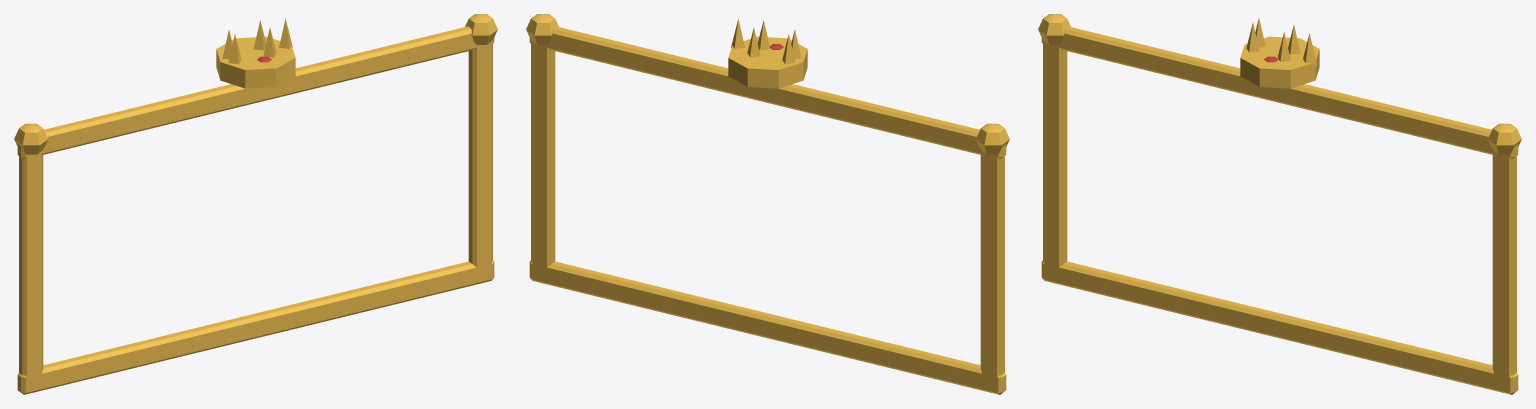
File: PR_Decor_TabelaCerceve.fbx
The picture shows the model from 3 angles, left to right: view 1: azimuth 30°, elevation 25°; view 2: azimuth 150°, elevation 25°; view 3: azimuth 330°, elevation 25°; orthographic projection.
Parts seen in each view (by area): view 1: PR_Decor_TabelaCerceve; view 2: PR_Decor_TabelaCerceve; view 3: PR_Decor_TabelaCerceve.
Part boxes in pixels (box(x1,y1,x2,y2)): PR_Decor_TabelaCerceve: box(14, 14, 497, 394); PR_Decor_TabelaCerceve: box(526, 14, 1009, 394); PR_Decor_TabelaCerceve: box(1038, 14, 1521, 394).
Size of the model in its own units: 1.61 by 1 by 0.24.
1 material, 1 textured.
